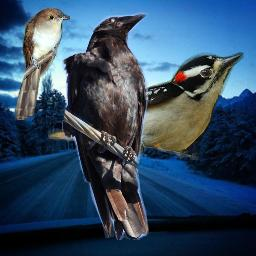Crow: (62, 11, 149, 240)
Cuckoo: (15, 7, 70, 120)
Woodpecker: (48, 48, 244, 160)
